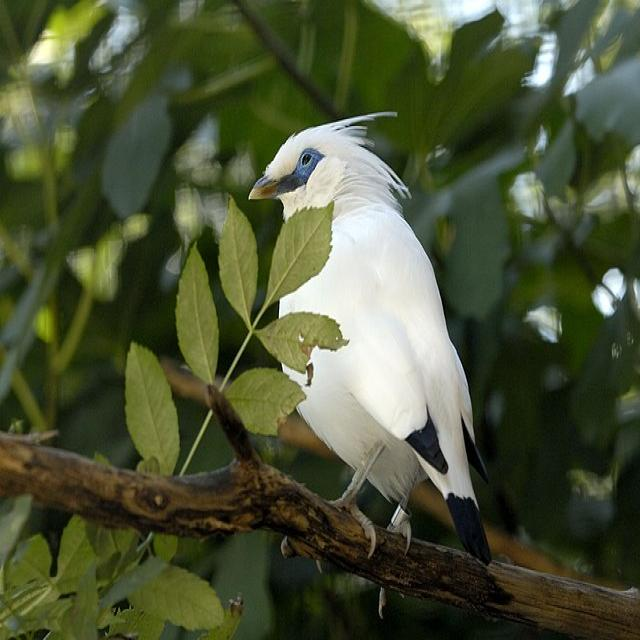Jalak Bali: (229, 93, 500, 590)
